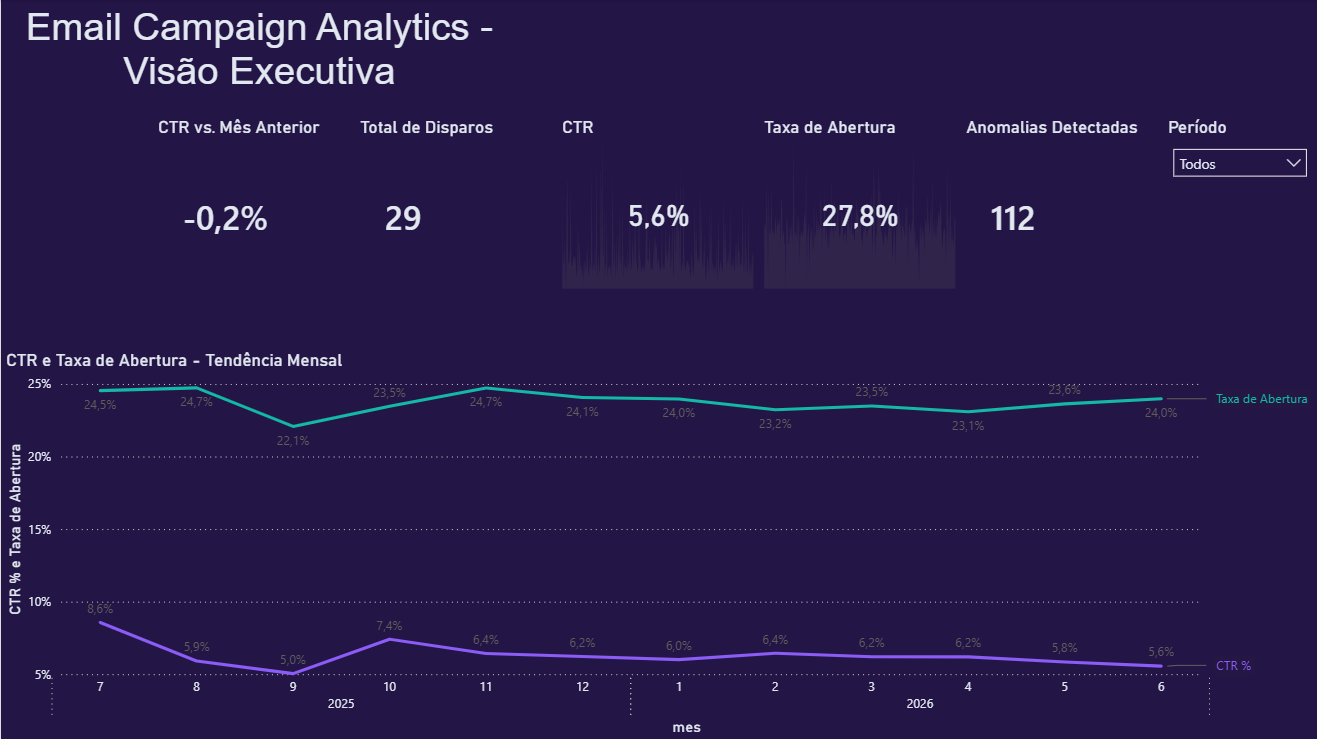

Layout of this report page (visuals, bound fields, positions):
{"tool":"powerbi","page":{"name":"Visão Executiva","canvas":[1280,720],"ordinal":0},"visuals":[{"type":"textbox","box":[0,0,502.9,99.2],"z":0},{"type":"kpi","title":"CTR","fields":{"Indicator":["fato_agregado_diario.CTR %"],"TrendLine":["dim_data.dat_referencia"]},"box":[540.8,113.8,196.5,172.2],"z":1000},{"type":"lineChart","title":"CTR e Taxa de Abertura - Tendência Mensal","fields":{"Y":["fato_agregado_diario.CTR %","fato_agregado_diario.Taxa de Abertura"],"Category":["dim_data.ano","dim_data.mes"]},"box":[0,340.4,1280,379.3],"z":2000},{"type":"slicer","title":"Período","fields":{"Values":["dim_data.nome_mes"]},"box":[1130.2,113.8,149.8,85.6],"z":3000},{"type":"kpi","title":"Taxa de Abertura","fields":{"TrendLine":["dim_data.dat_referencia"],"Indicator":["fato_agregado_diario.Taxa de Abertura"]},"box":[737.3,113.8,196.5,172.2],"z":4000},{"type":"cardVisual","title":"Total de Disparos","fields":{"Data":["fato_agregado_diario.Total Disparos"]},"box":[344.3,113.8,196.5,172.2],"z":5000},{"type":"cardVisual","title":"Anomalias Detectadas","fields":{"Data":["fato_anomalias.Total Anomalias"]},"box":[933.7,113.8,196.5,172.2],"z":6000},{"type":"cardVisual","title":"CTR vs. Mês Anterior","fields":{"Data":["fato_agregado_diario.CTR MoM %"]},"box":[147.8,113.8,196.5,172.2],"z":7000}]}

Visuals, with their boxes in screenshot pixels (x1, y1, x2, y2), scaled from the page's 1280x720 canvas onto the 1317x739 screenshot:
textbox: bbox(0, 0, 517, 102)
"CTR" kpi: bbox(556, 117, 759, 294)
"CTR e Taxa de Abertura - Tendência Mensal" lineChart: bbox(0, 349, 1316, 738)
"Período" slicer: bbox(1163, 117, 1316, 205)
"Taxa de Abertura" kpi: bbox(759, 117, 961, 294)
"Total de Disparos" cardVisual: bbox(354, 117, 556, 294)
"Anomalias Detectadas" cardVisual: bbox(961, 117, 1163, 294)
"CTR vs. Mês Anterior" cardVisual: bbox(152, 117, 354, 294)
